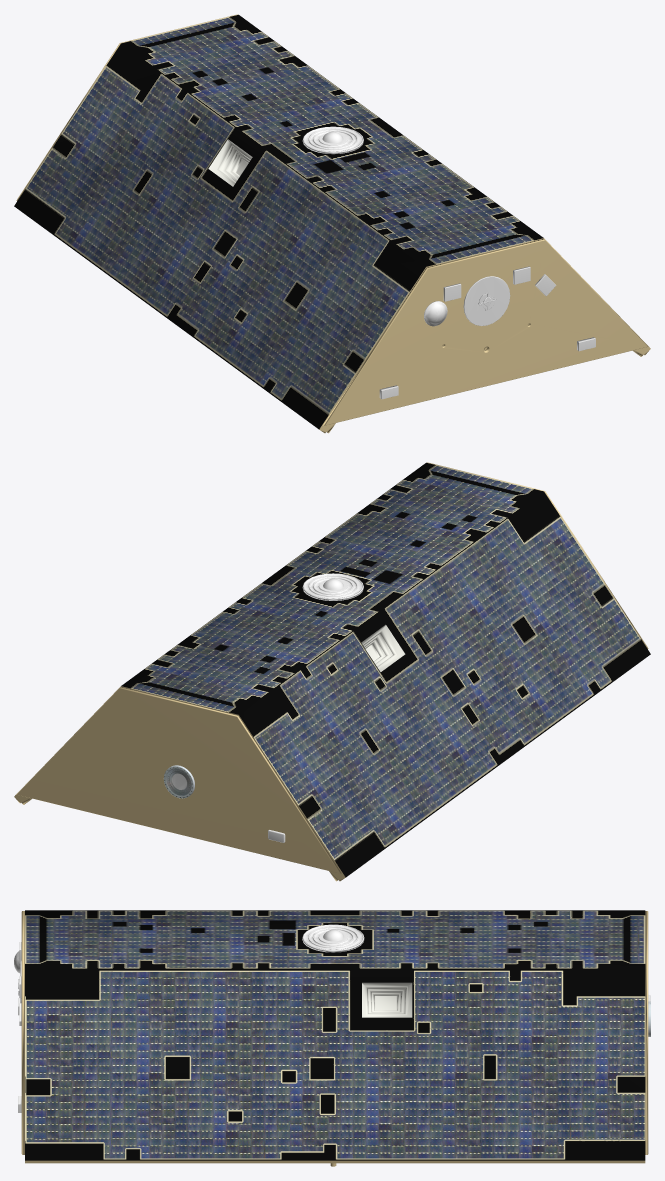
The model's file is Gravity Recovery and Climate Experiment (GRACE) (B).glb.
3 renders of one model, top to bottom at view 1: azimuth 30°, elevation 25°; view 2: azimuth 150°, elevation 25°; view 3: azimuth 270°, elevation 25°, orthographic.
Parts seen in each view (by area): view 1: Mesh .006, Mesh .001, Mesh .005, Mesh .002, Mesh, Mesh .004; view 2: Mesh .006, Mesh .001, Mesh .002, Mesh; view 3: Mesh .006, Mesh .002, Mesh .001, Mesh.
Boxes of the visible parts, <box> form: Mesh .006: <box>14,14,543,429</box>; Mesh .001: <box>16,14,648,425</box>; Mesh .005: <box>463,276,510,325</box>; Mesh .002: <box>208,139,650,433</box>; Mesh: <box>302,126,363,154</box>; Mesh .004: <box>379,266,595,399</box>; Mesh .006: <box>121,462,650,877</box>; Mesh .001: <box>16,462,648,873</box>; Mesh .002: <box>14,624,405,881</box>; Mesh: <box>302,573,363,600</box>; Mesh .006: <box>25,910,650,1160</box>; Mesh .002: <box>25,982,645,1163</box>; Mesh .001: <box>21,911,648,1154</box>; Mesh: <box>302,924,364,952</box>.
Size of the model in its own units: 4.81 by 3.2 by 7.87.
Materials: 13 (2 with a texture image).
